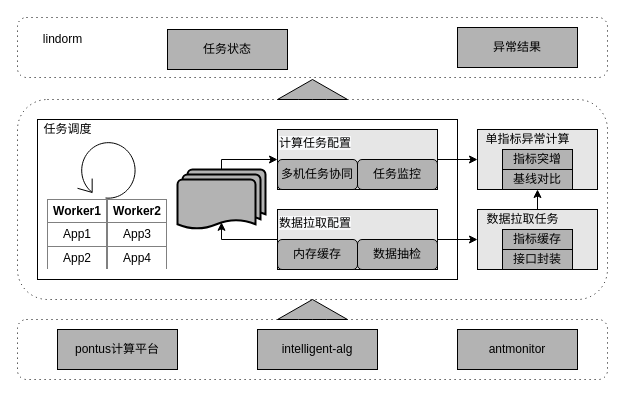
The diagram is 625 pixels wide and 397 high, and some of its shapes have lost their labels. Here are the shapes that lost their labels. From the top down, the box of each, then its label:
(76, 138, 138, 200): driver
(176, 168, 266, 230): 时序数据模型
